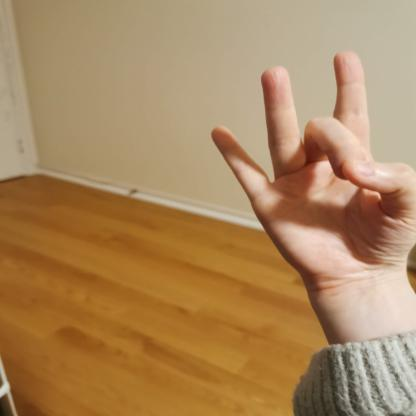eight: (203, 47, 415, 301)
